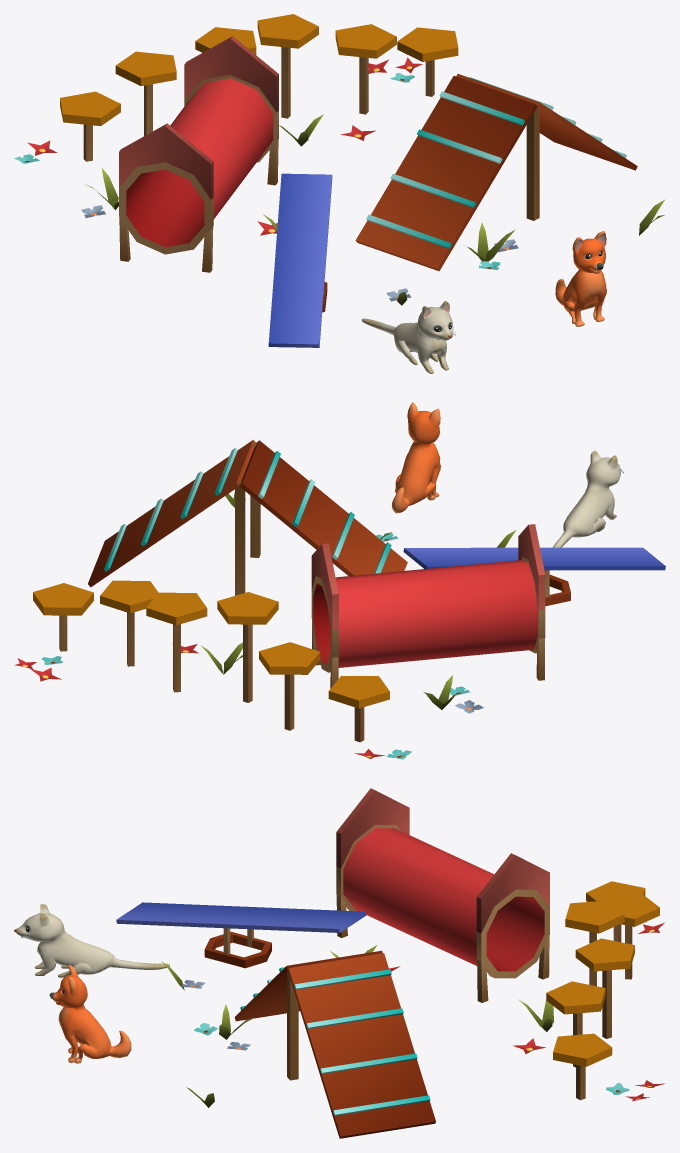
The model's file is animals.gltf.
The picture shows the model from 3 angles, top to bottom: view 1: azimuth 30°, elevation 25°; view 2: azimuth 150°, elevation 25°; view 3: azimuth 270°, elevation 25°; orthographic projection. The views are drawn at different scales.
Parts seen in each view (by area): view 1: Parc_Jeux_Animaux, Dog_Pet, Cat_Pet; view 2: Parc_Jeux_Animaux, Dog_Pet, Cat_Pet; view 3: Parc_Jeux_Animaux, Cat_Pet, Dog_Pet.
Boxes of the visible parts, bbox=[...] form: Parc_Jeux_Animaux: bbox=[14, 14, 664, 347]; Dog_Pet: bbox=[555, 231, 606, 326]; Cat_Pet: bbox=[362, 301, 455, 373]; Parc_Jeux_Animaux: bbox=[14, 439, 665, 759]; Dog_Pet: bbox=[392, 402, 440, 513]; Cat_Pet: bbox=[552, 450, 623, 547]; Parc_Jeux_Animaux: bbox=[116, 788, 664, 1138]; Cat_Pet: bbox=[14, 904, 169, 977]; Dog_Pet: bbox=[49, 964, 131, 1063].
Size of the model in its own units: 4.95 by 1.46 by 6.
3 materials, 3 textured.
